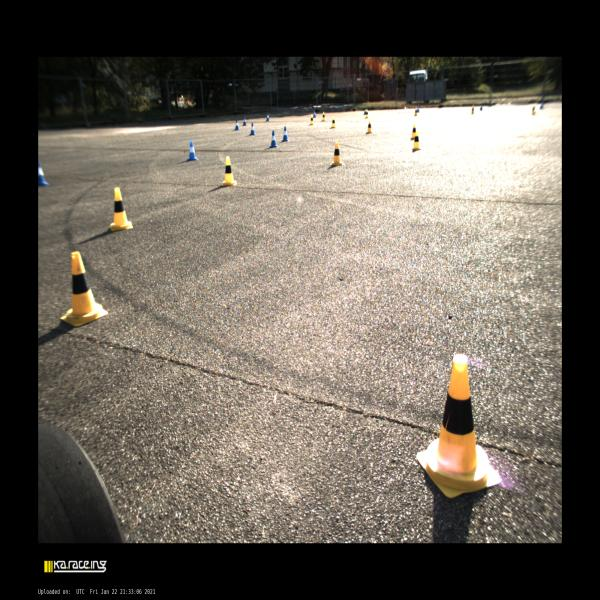blue_cone: (38, 158, 49, 186), (187, 141, 198, 161), (270, 130, 278, 148), (282, 126, 288, 142), (250, 123, 255, 135), (234, 120, 239, 130), (242, 116, 247, 126), (265, 112, 270, 122), (312, 109, 316, 118), (364, 108, 366, 115)
yellow_cone: (416, 354, 502, 499), (60, 252, 107, 327), (110, 188, 133, 232), (222, 156, 237, 186), (330, 142, 343, 165), (412, 132, 421, 150), (410, 125, 416, 140), (330, 116, 336, 129), (366, 121, 372, 133), (308, 115, 314, 126), (321, 112, 326, 121), (365, 109, 369, 118), (471, 105, 474, 115), (414, 107, 417, 116)
